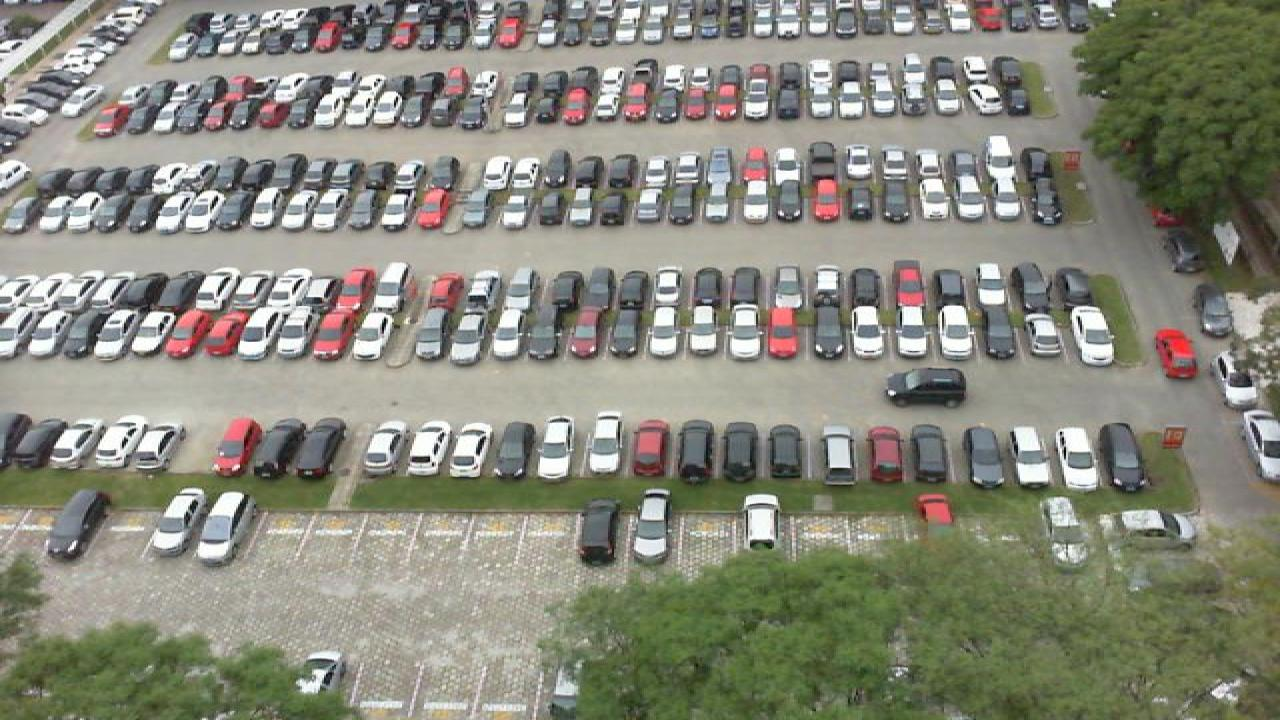Car: (38, 488, 108, 562), (194, 489, 254, 567), (1096, 422, 1152, 494), (152, 488, 208, 559), (1042, 495, 1094, 568), (292, 416, 348, 478), (252, 420, 308, 478), (120, 422, 184, 472), (1238, 410, 1280, 486), (884, 366, 968, 404), (360, 420, 416, 476), (32, 416, 90, 470), (632, 487, 672, 565), (574, 497, 620, 564), (960, 424, 1006, 491), (1054, 426, 1102, 490), (212, 416, 262, 477), (404, 421, 456, 479), (584, 410, 626, 481), (1214, 350, 1262, 412), (1114, 509, 1196, 544), (448, 420, 498, 477), (240, 305, 292, 359), (908, 423, 952, 486), (1010, 426, 1054, 489), (492, 417, 538, 477), (738, 492, 782, 554), (676, 419, 720, 481), (78, 416, 130, 468), (1014, 307, 1064, 361), (1062, 307, 1110, 363), (630, 419, 674, 480), (932, 301, 978, 359), (160, 308, 212, 359), (720, 422, 764, 482), (764, 423, 808, 483), (818, 424, 860, 486), (538, 414, 578, 479), (974, 303, 1020, 359), (864, 424, 906, 485), (1150, 329, 1200, 380), (202, 307, 252, 358), (70, 309, 120, 359), (24, 310, 76, 356), (350, 305, 394, 359), (278, 305, 322, 358), (116, 309, 162, 359), (890, 303, 930, 360), (1192, 284, 1232, 340), (448, 306, 488, 362), (764, 304, 804, 359), (314, 307, 356, 359), (488, 304, 526, 361), (526, 305, 564, 362), (644, 303, 682, 360), (806, 303, 844, 360), (848, 303, 886, 360), (724, 304, 762, 360), (410, 308, 450, 361), (564, 306, 604, 359), (684, 304, 720, 360), (0, 412, 34, 471), (606, 305, 640, 359), (0, 308, 32, 360), (918, 494, 956, 531)
